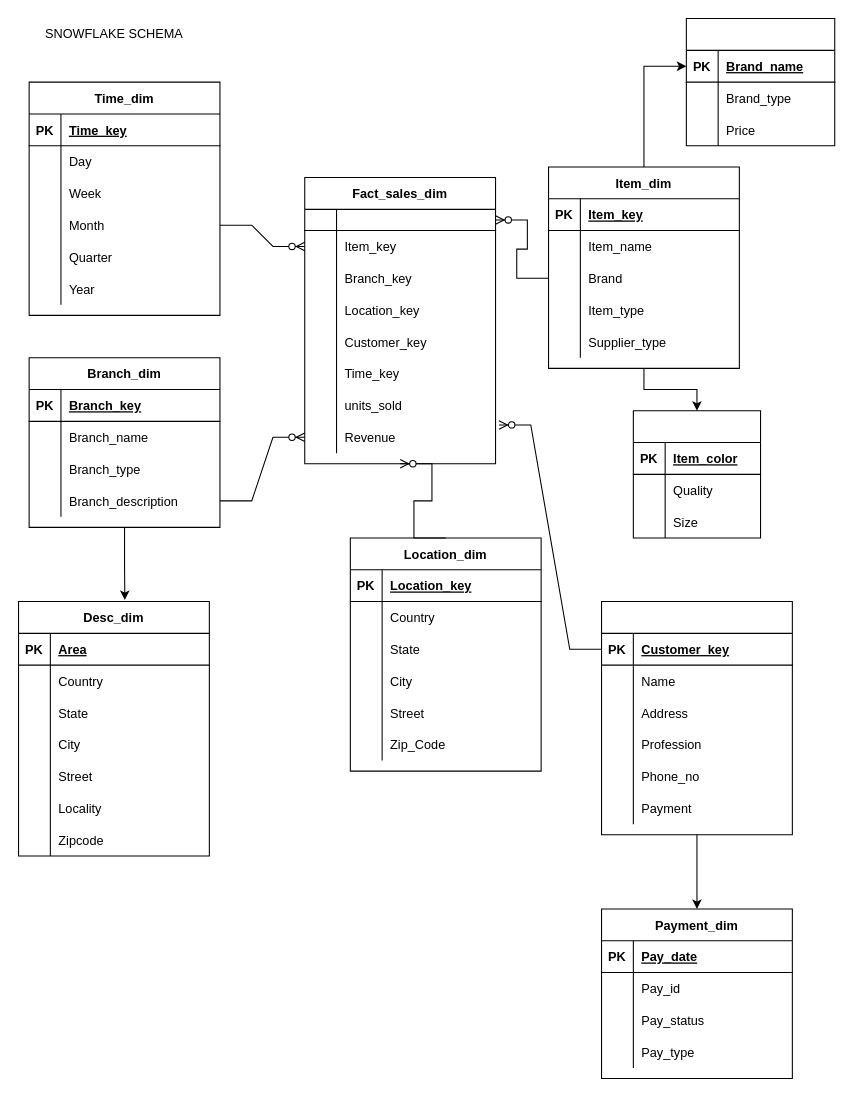
Image size: 853x1097. Some labels were removed from this diagram. The box of each missing label's shape, as (x1, y1, x2, y2) in pixels:
Brand_dim: (685, 17, 835, 146)
Customer_dim: (600, 600, 792, 835)
Item_type_dim: (632, 410, 761, 538)
